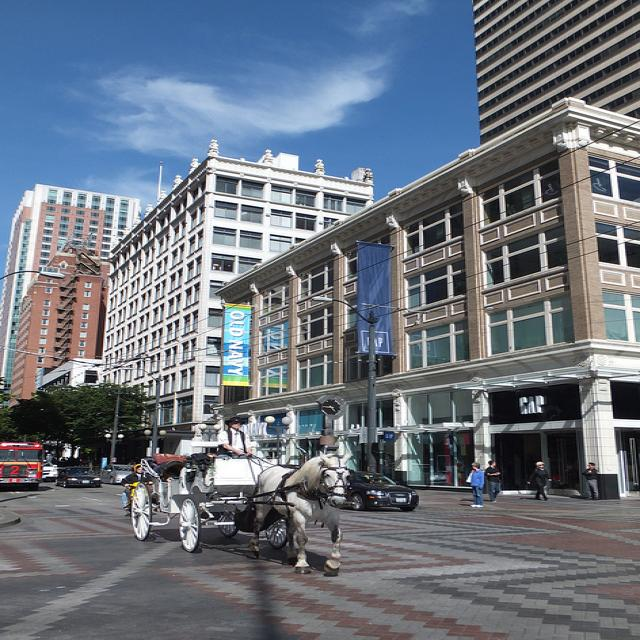Vehicle: (348, 472, 420, 512), (0, 442, 43, 490), (1, 443, 44, 490), (55, 467, 100, 488), (100, 464, 133, 485), (41, 460, 59, 483)
